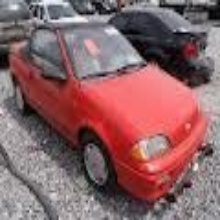no damage: (8, 21, 216, 206), (108, 8, 217, 79), (1, 1, 37, 66)
